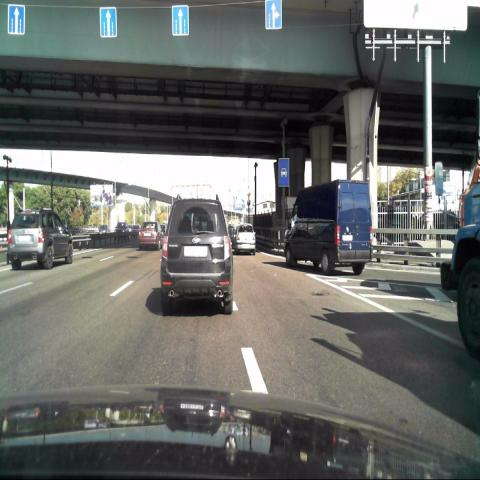5_3: (278, 159, 289, 185)
